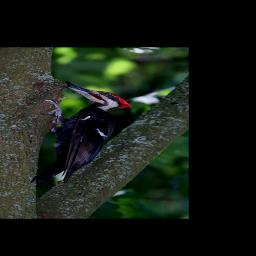Woodpecker: (30, 82, 133, 187)
